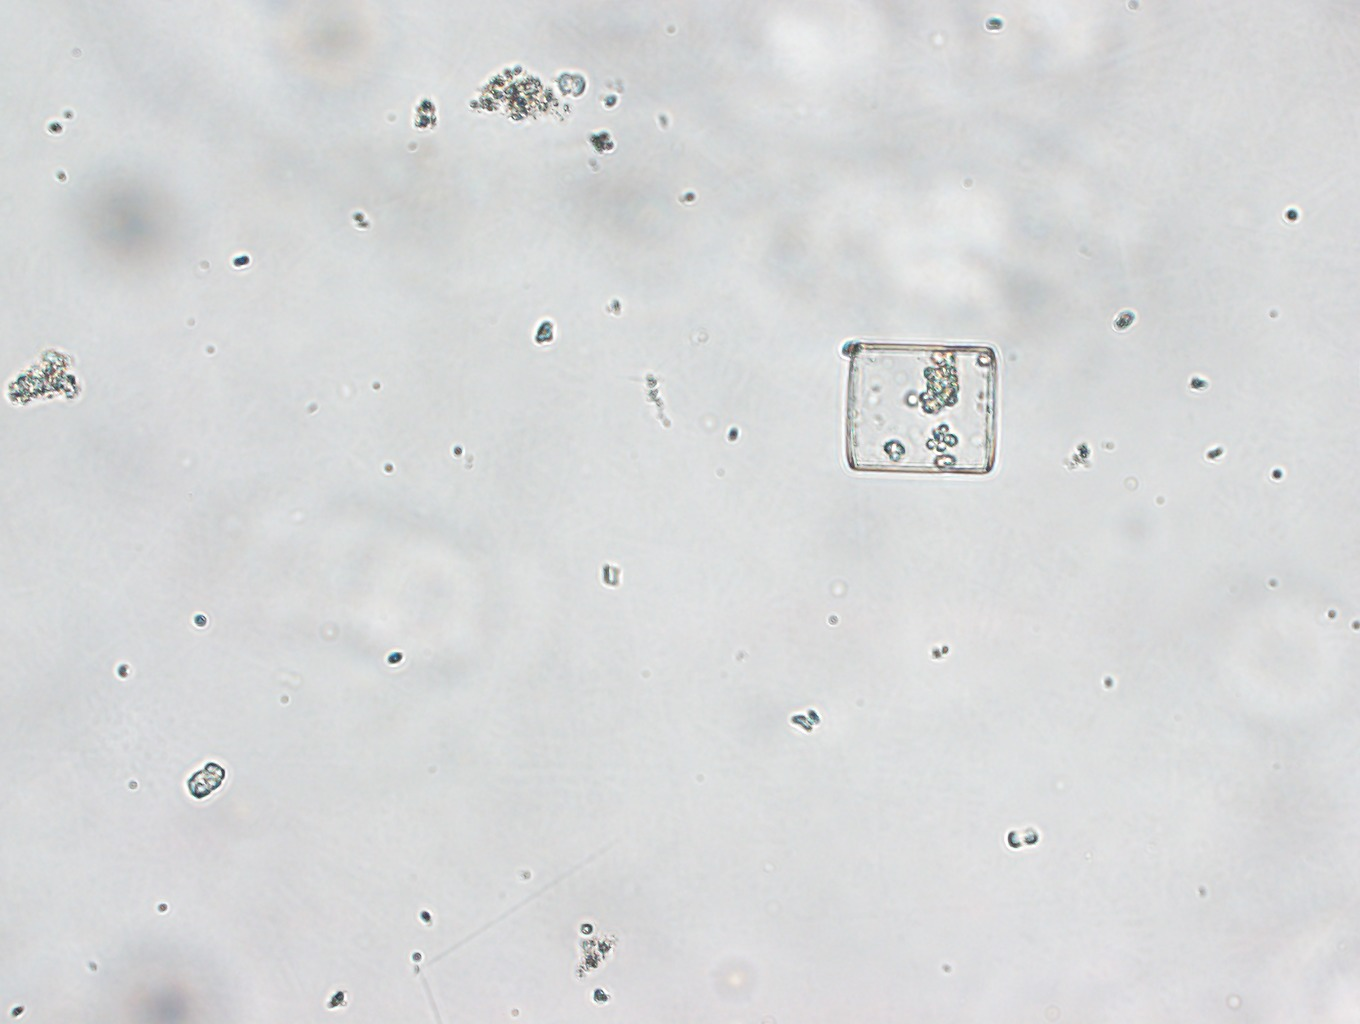guinardia flaccida: (830, 336, 1008, 483)
